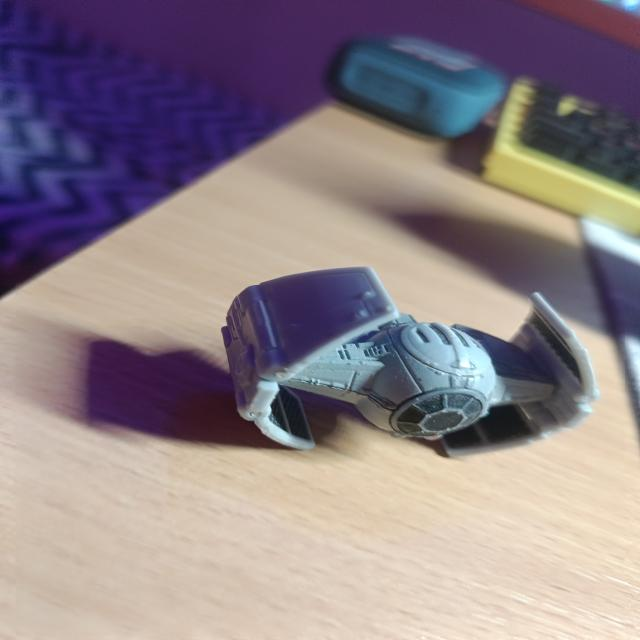tie fighter: (222, 264, 602, 458)
